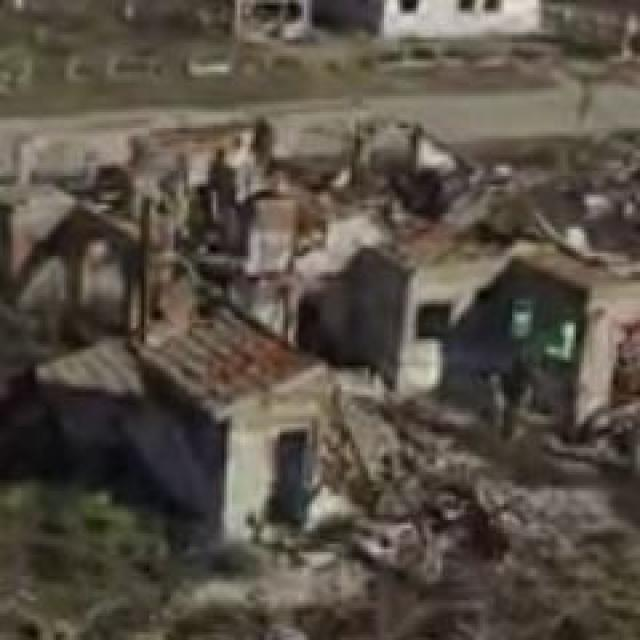collapsed_building: (0, 130, 637, 480)
